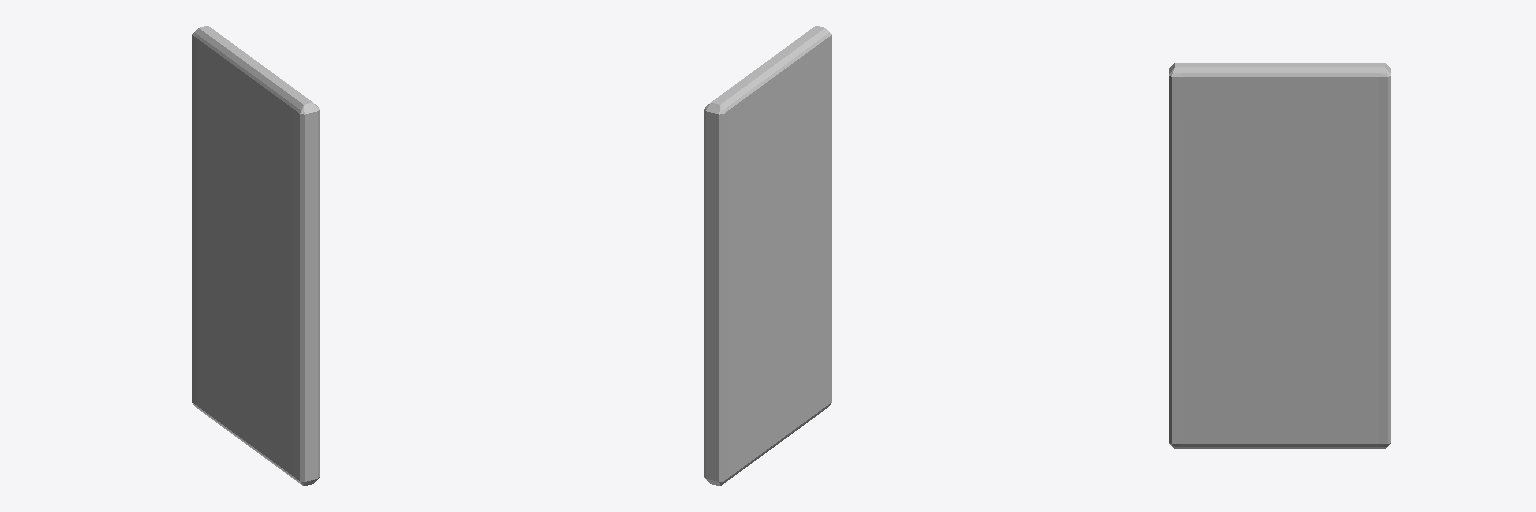
The model's file is PhoneObj.obj.
The picture shows the model from 3 angles: view 1: azimuth 30°, elevation 25°; view 2: azimuth 150°, elevation 25°; view 3: azimuth 270°, elevation 25°; orthographic projection.
Visible parts, largest first — view 1: pCube1; view 2: pCube1; view 3: pCube1.
Part boxes in pixels (x1,y1,x2,y2): pCube1: (192,26,319,485); pCube1: (704,26,831,485); pCube1: (1169,63,1390,448).
Size of the model in its own units: 0.1902 by 3.48 by 1.84.